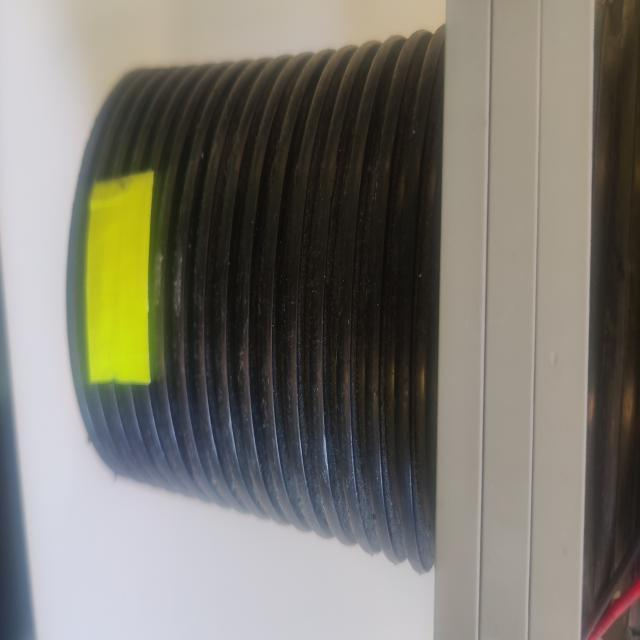robot-front: (69, 35, 444, 559)
